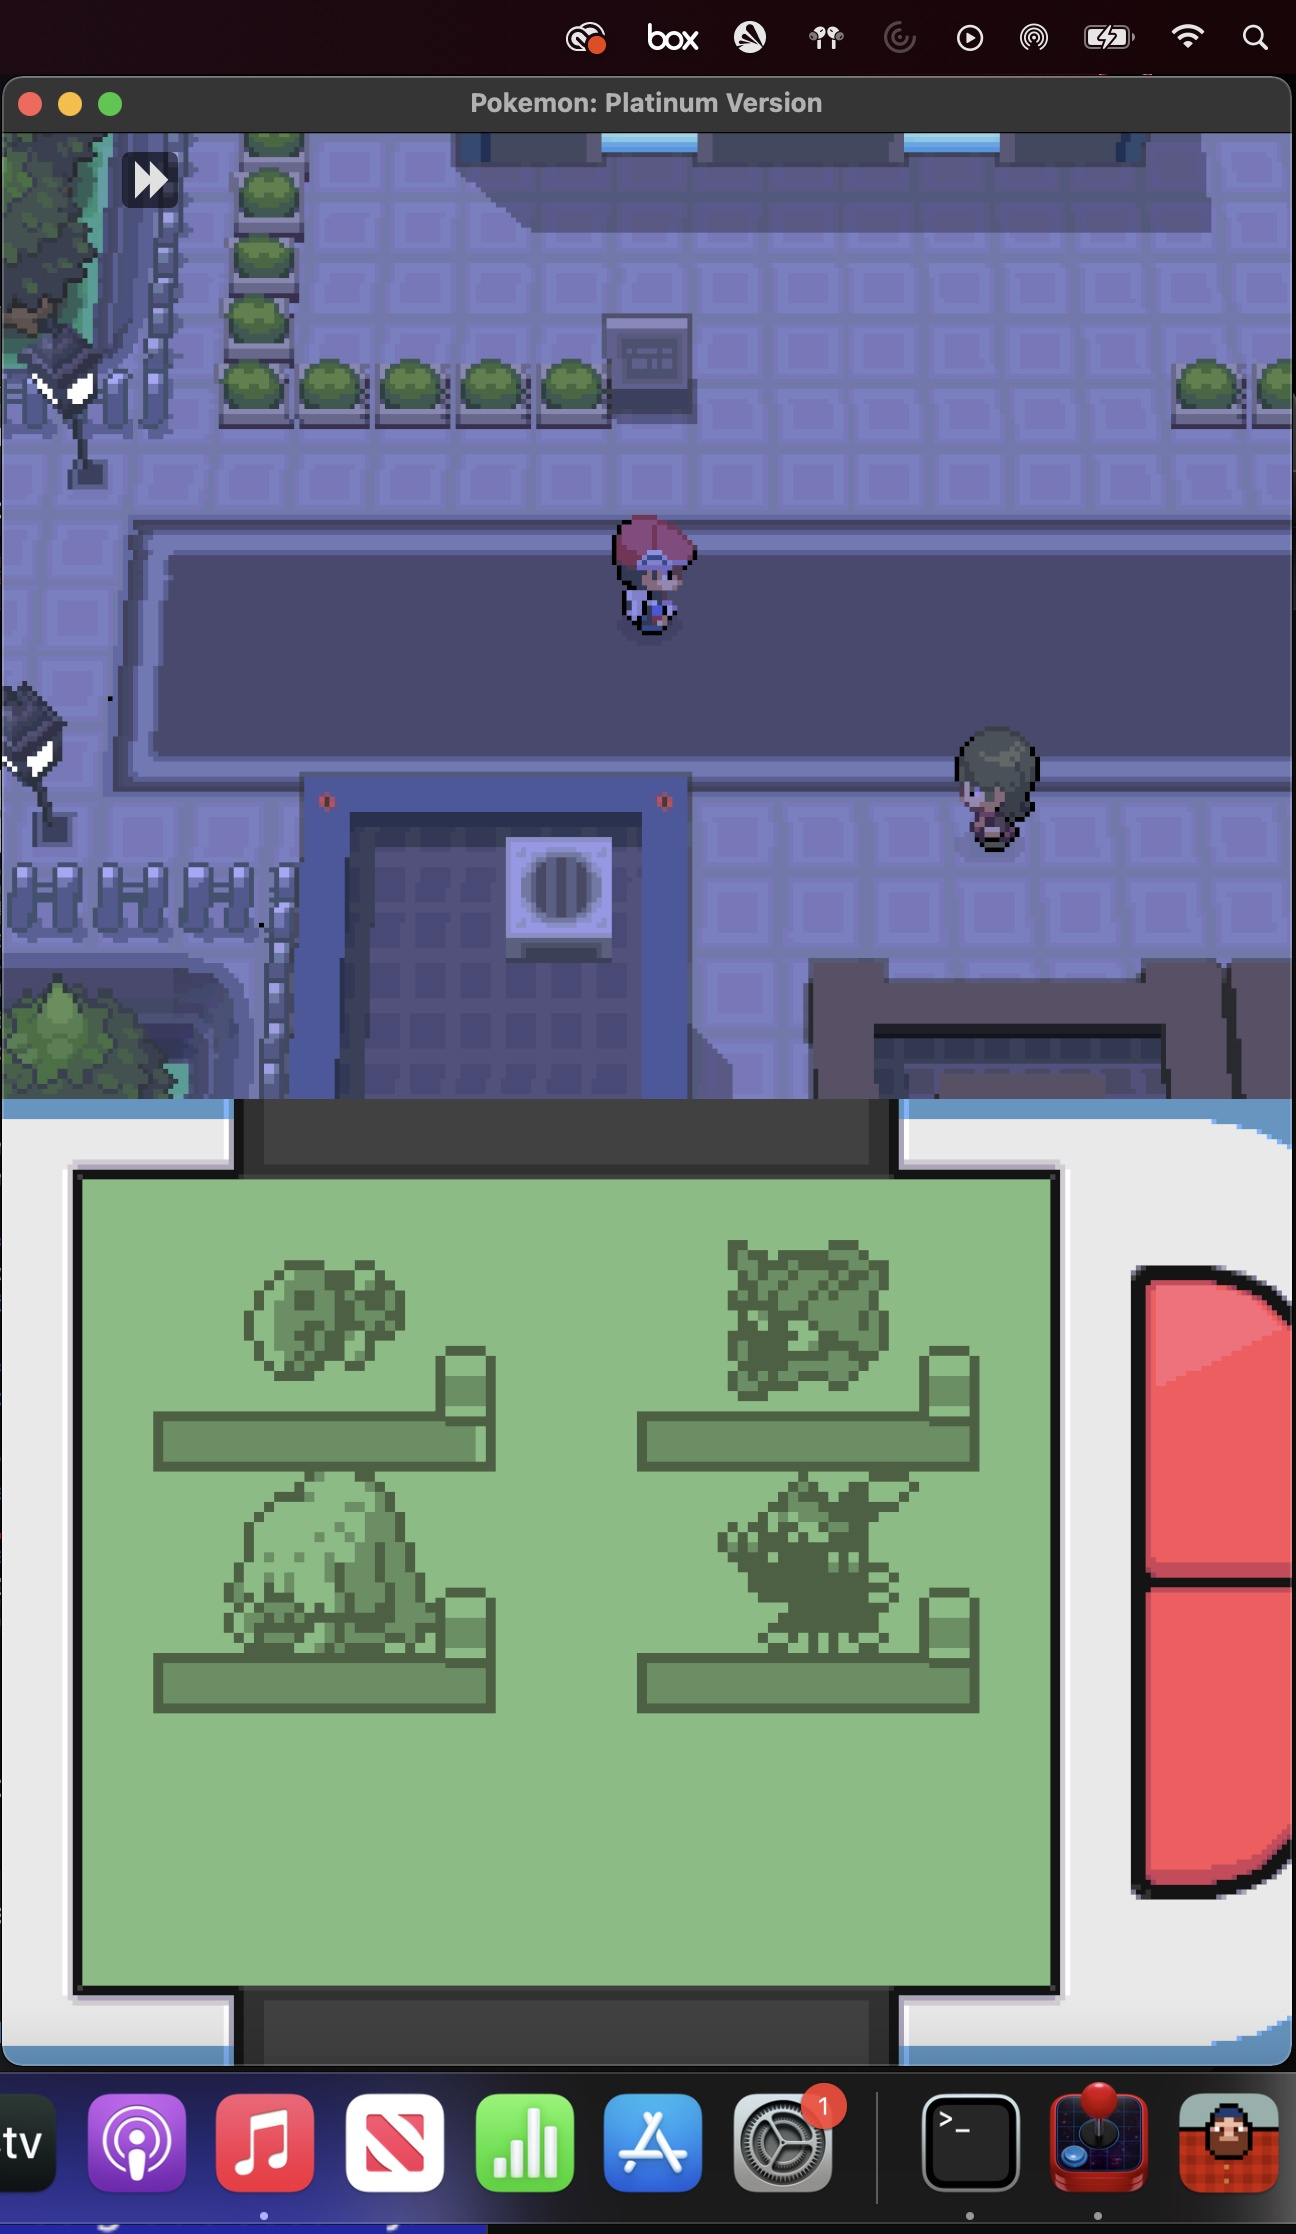player: (606, 509, 695, 646)
